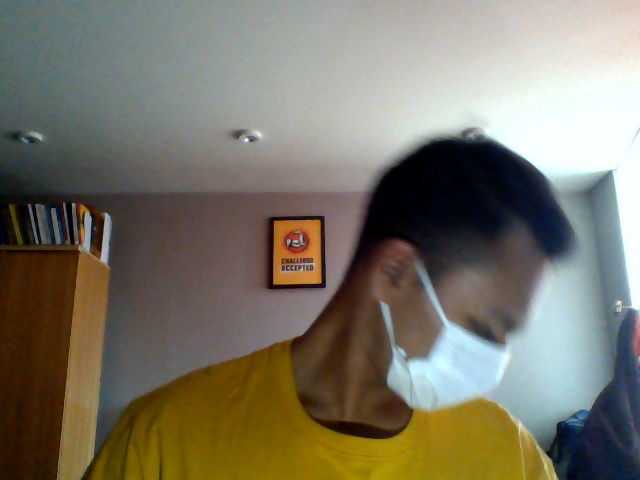mask: (389, 332, 510, 409)
